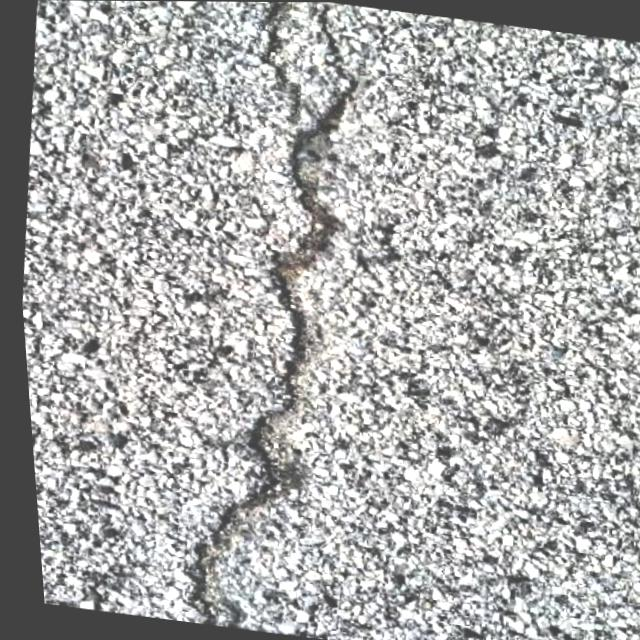cracks: (156, 1, 375, 640)
